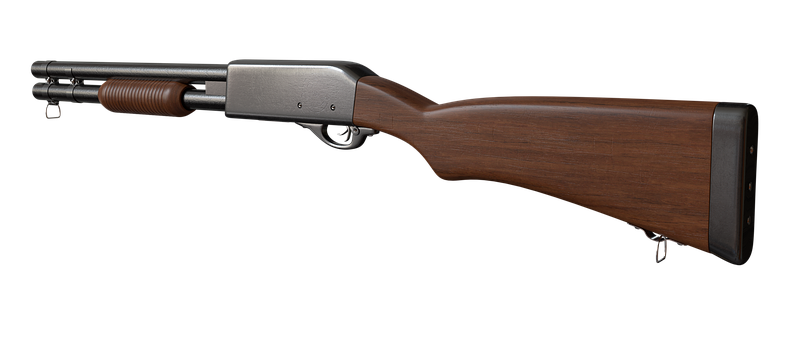shotgun: (24, 47, 772, 277)
